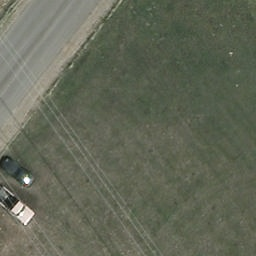car: (1, 156, 37, 188)
pickup: (0, 187, 35, 226)
